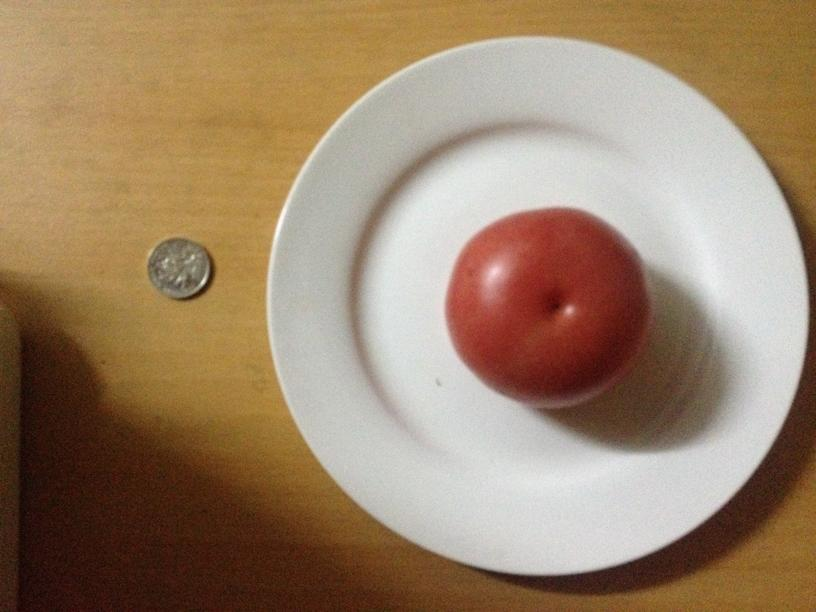coin: (140, 235, 216, 298)
tomato: (449, 202, 647, 409)
